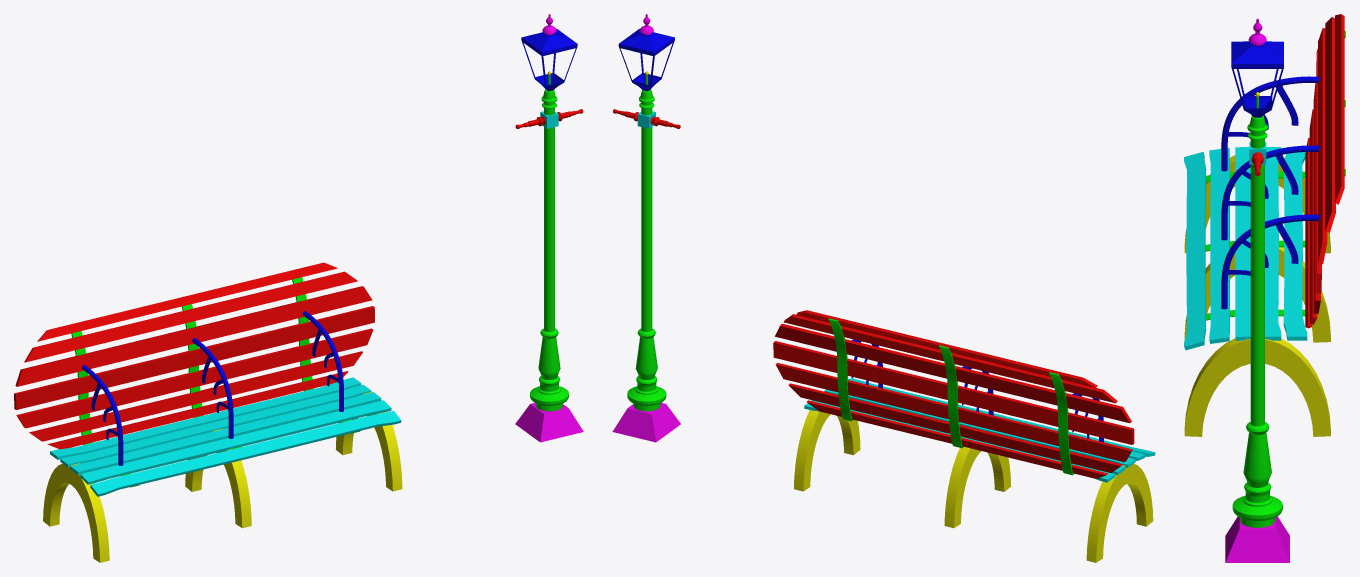
Rendered from bench and lamp.fbx.
3 renders of one model, left to right at view 1: azimuth 30°, elevation 25°; view 2: azimuth 150°, elevation 25°; view 3: azimuth 270°, elevation 25°, orthographic. The views are drawn at different scales.
Parts seen in each view (by area): view 1: BenchBack, polySurface2, polySurface18, BenchLeg3, polySurface17, BenchLeg2, BenchLeg1, polySurface23, Handle2, Handle1, Handle3; view 2: BenchBack, polySurface18, BenchLeg3, polySurface2, BenchLeg2, BenchLeg1, polySurface17, polySurface23, BenchBackHolder2, BenchBackHolder4, BenchBackHolder3; view 3: polySurface2, BenchBack, polySurface18, BenchLeg1, polySurface17, polySurface23, Handle3, Handle2, Handle1, BenchLeg2, BenchLeg3, polySurface19 (+1 smaller).
Part boxes in pixels (bbox=[...]): BenchBack: bbox=[14, 262, 374, 449]; polySurface2: bbox=[50, 377, 401, 496]; polySurface18: bbox=[530, 71, 568, 411]; BenchLeg3: bbox=[43, 463, 109, 562]; polySurface17: bbox=[515, 403, 583, 442]; BenchLeg2: bbox=[185, 429, 251, 528]; BenchLeg1: bbox=[335, 391, 402, 491]; polySurface23: bbox=[521, 29, 577, 91]; Handle2: bbox=[192, 338, 233, 438]; Handle1: bbox=[82, 365, 123, 465]; Handle3: bbox=[302, 311, 343, 411]; BenchBack: bbox=[773, 310, 1134, 478]; polySurface18: bbox=[627, 71, 666, 411]; BenchLeg3: bbox=[1086, 464, 1153, 562]; polySurface2: bbox=[804, 378, 1155, 482]; BenchLeg2: bbox=[944, 447, 1011, 528]; BenchLeg1: bbox=[794, 410, 860, 491]; polySurface17: bbox=[612, 403, 680, 442]; polySurface23: bbox=[618, 29, 674, 91]; BenchBackHolder2: bbox=[938, 345, 962, 448]; BenchBackHolder4: bbox=[828, 318, 852, 421]; BenchBackHolder3: bbox=[1049, 372, 1073, 475]; polySurface2: bbox=[1184, 147, 1307, 350]; BenchBack: bbox=[1305, 14, 1344, 328]; polySurface18: bbox=[1232, 92, 1282, 527]; BenchLeg1: bbox=[1184, 338, 1330, 436]; polySurface17: bbox=[1225, 516, 1289, 562]; polySurface23: bbox=[1231, 41, 1283, 117]; Handle3: bbox=[1221, 214, 1319, 309]; Handle2: bbox=[1221, 145, 1319, 240]; Handle1: bbox=[1221, 76, 1319, 171]; BenchLeg2: bbox=[1184, 247, 1330, 342]; BenchLeg3: bbox=[1184, 155, 1330, 253]; polySurface19: bbox=[1248, 18, 1266, 45].
Bounding box in the file's own units: 19.69 × 14.33 × 3.96.
